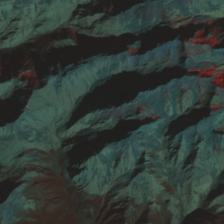landslides: (15, 119, 38, 133), (12, 122, 27, 140), (26, 106, 36, 119), (27, 101, 38, 112)
